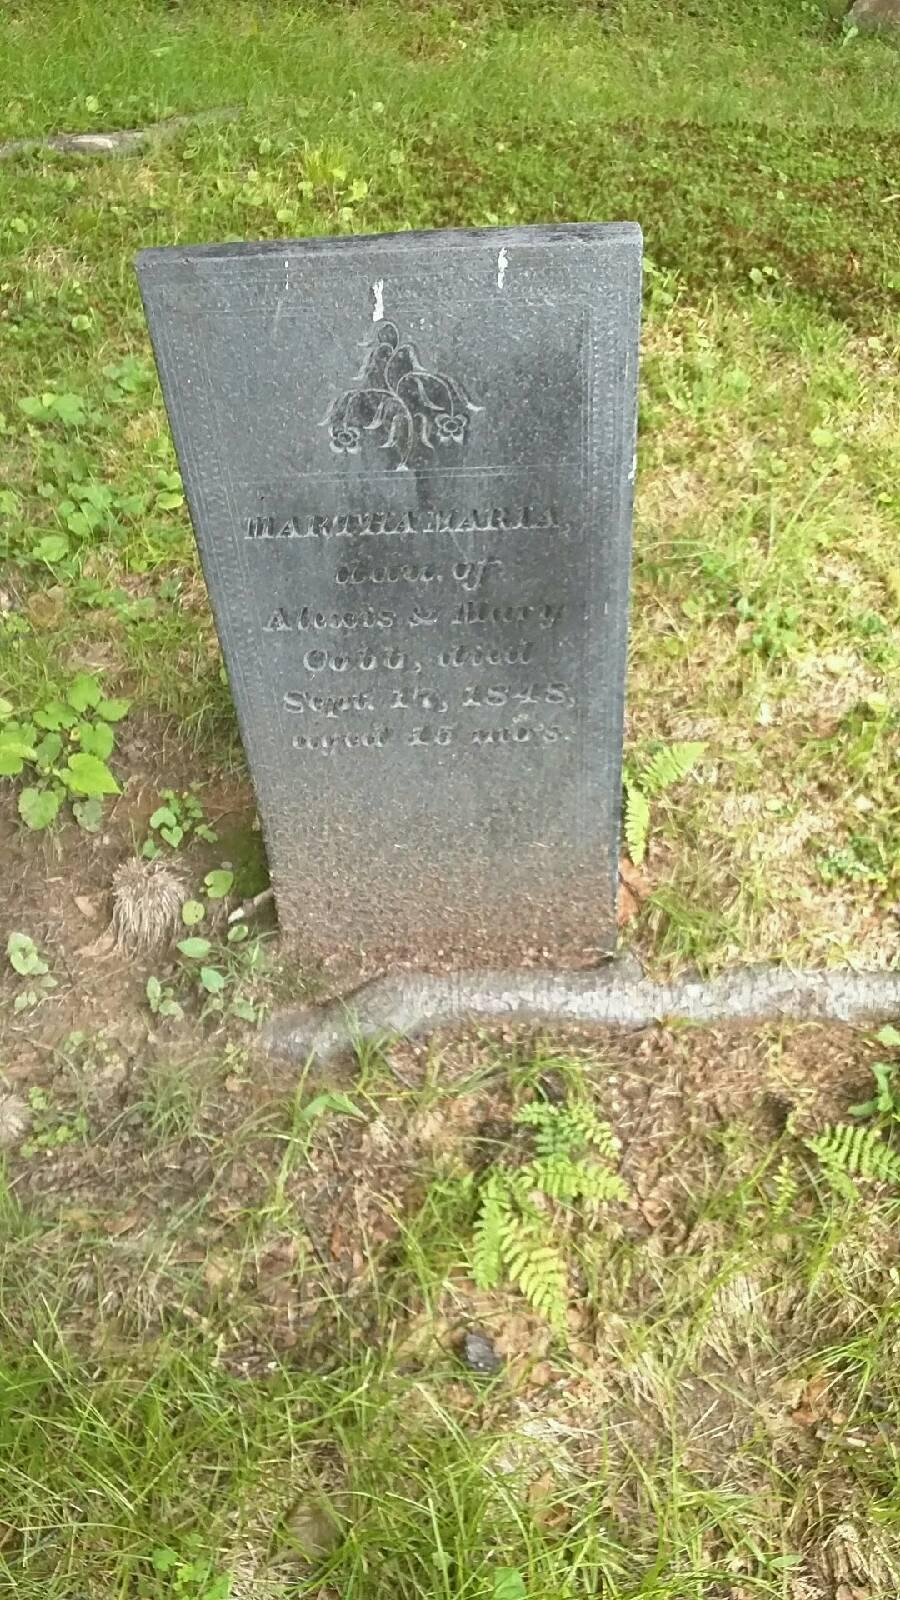upright: (127, 236, 645, 963)
